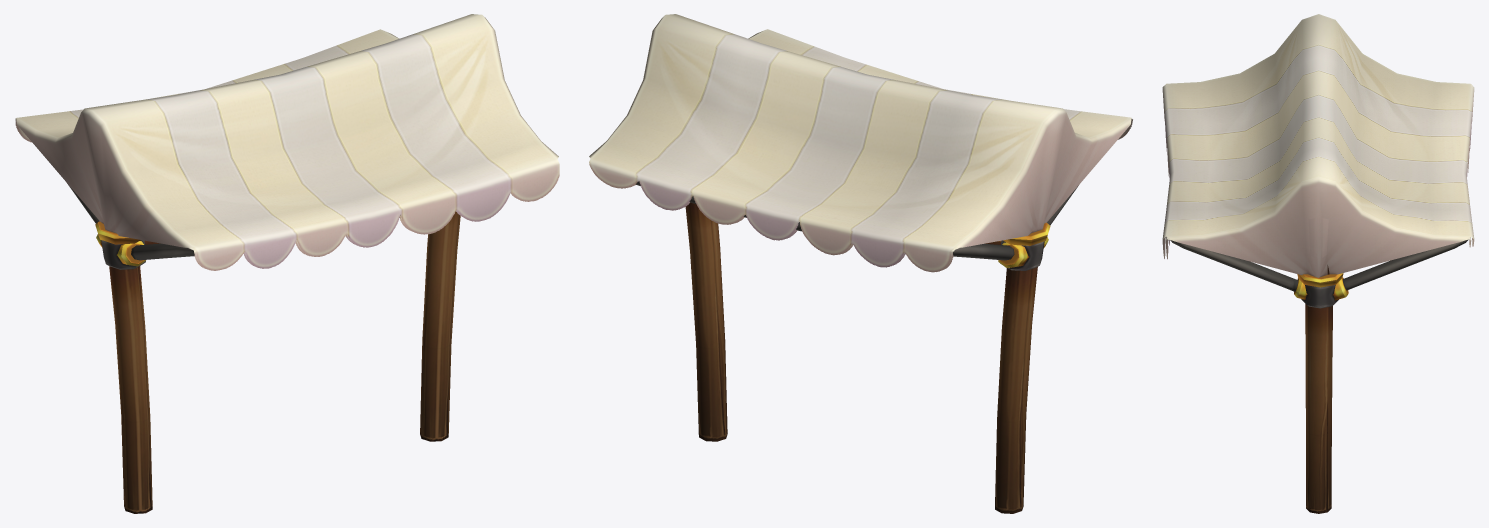
File: SE_Booth_02.fbx
The picture shows the model from 3 angles, left to right: view 1: azimuth 30°, elevation 25°; view 2: azimuth 150°, elevation 25°; view 3: azimuth 270°, elevation 25°; orthographic projection. The views are drawn at different scales.
Parts seen in each view (by area): view 1: SE_Booth_02; view 2: SE_Booth_02; view 3: SE_Booth_02.
Boxes of the visible parts, x1,y1,x2,y2 form: SE_Booth_02: (15, 14, 559, 513); SE_Booth_02: (589, 14, 1132, 513); SE_Booth_02: (1162, 14, 1474, 513).
Size of the model in its own units: 5.94 by 5.84 by 4.7.
